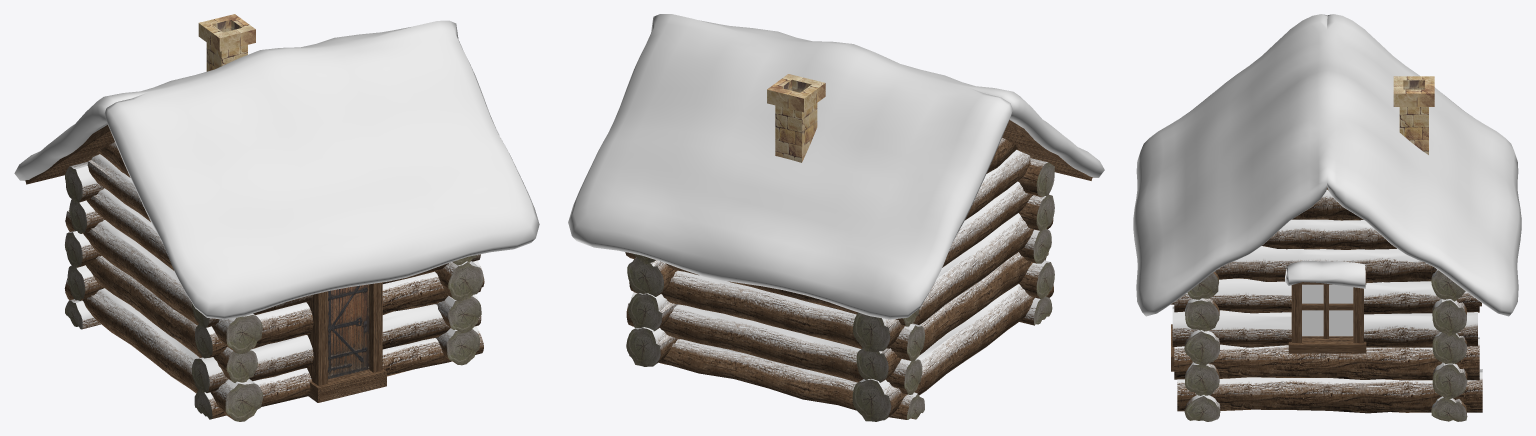
The model's file is Snowy_Wooden_Hut.glb.
The picture shows the model from 3 angles, left to right: view 1: azimuth 30°, elevation 25°; view 2: azimuth 150°, elevation 25°; view 3: azimuth 270°, elevation 25°; orthographic projection. The views are drawn at different scales.
Visible parts, largest first — view 1: unnamed (×21); view 2: unnamed (×23); view 3: unnamed (×22).
Part boxes in pixels (box(x1,y1,x2,y2)): unnamed (×21): box(14, 14, 539, 421); unnamed (×23): box(568, 14, 1104, 421); unnamed (×22): box(1133, 14, 1521, 421).
Bounding box in the file's own units: 8.46 × 6.55 × 8.23.
7 materials, 5 textured.
